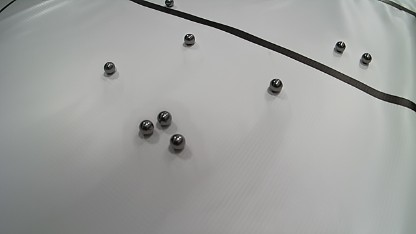ironball: (169, 133, 185, 150), (139, 119, 154, 135), (268, 78, 283, 94), (157, 111, 171, 126), (183, 33, 195, 46), (104, 62, 115, 75), (334, 41, 345, 52), (361, 52, 371, 64), (165, 0, 174, 7)
